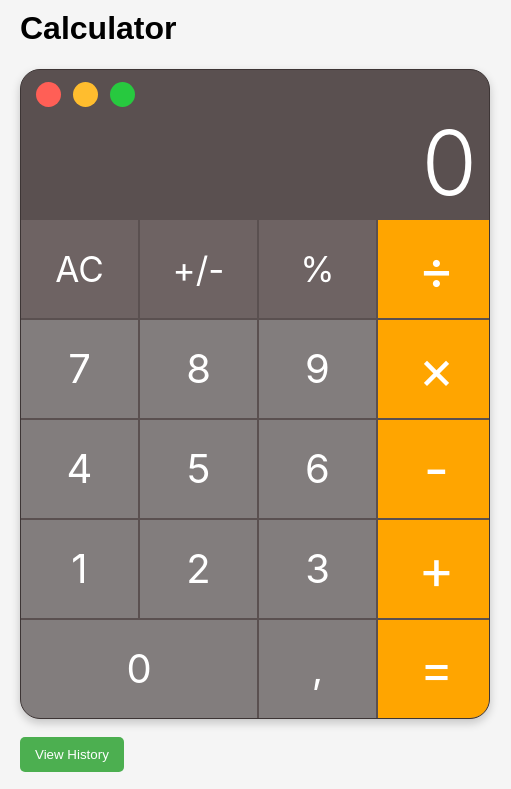
Calculator App › Special Operations › Percentage › should convert multi-digit number to percentage
Click the button "5" at (198, 469), box 140,420 -> 257,518
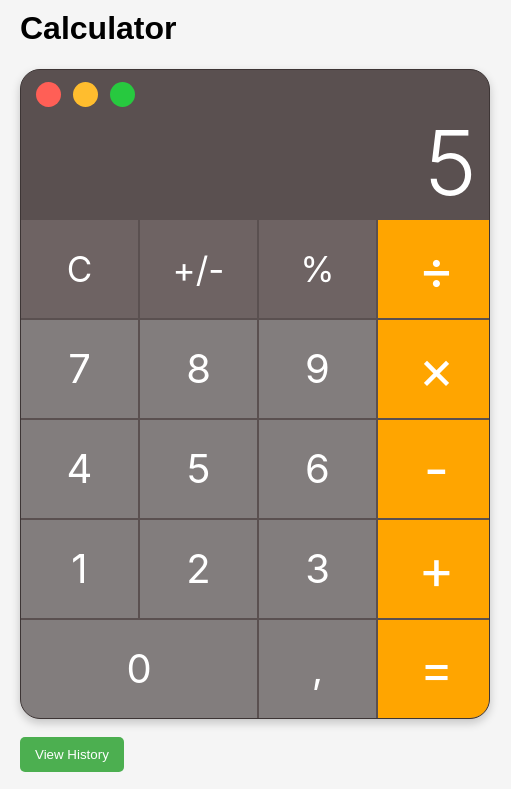
Click the button "0" at (139, 669), box 21,620 -> 257,718
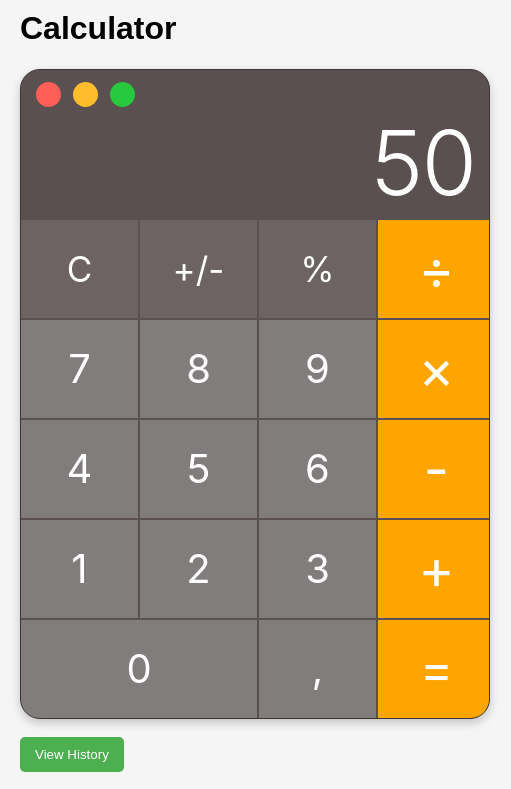
Click the button "0" at (139, 669), box 21,620 -> 257,718
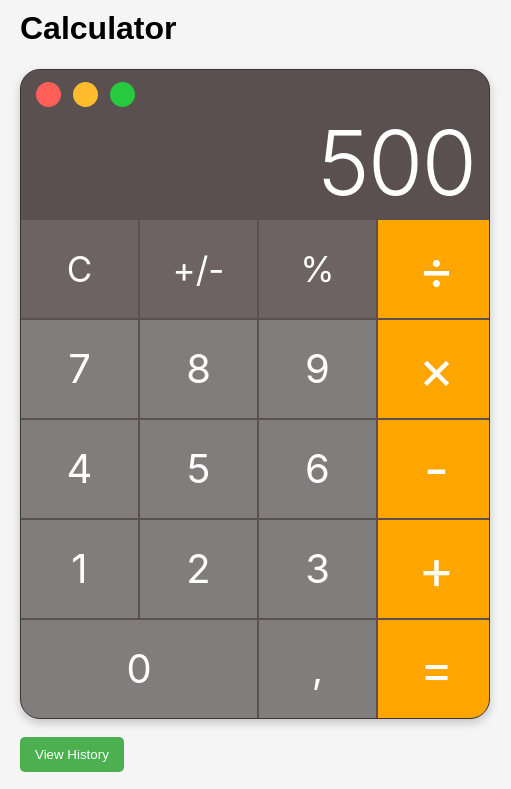
Click the button "1" at (80, 569), box 21,520 -> 138,618
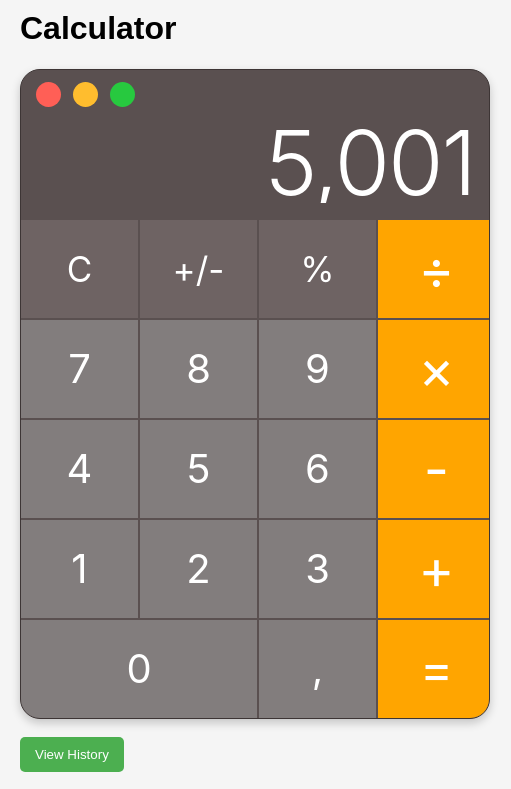
Click the button "%" at (318, 269), box 259,220 -> 376,318
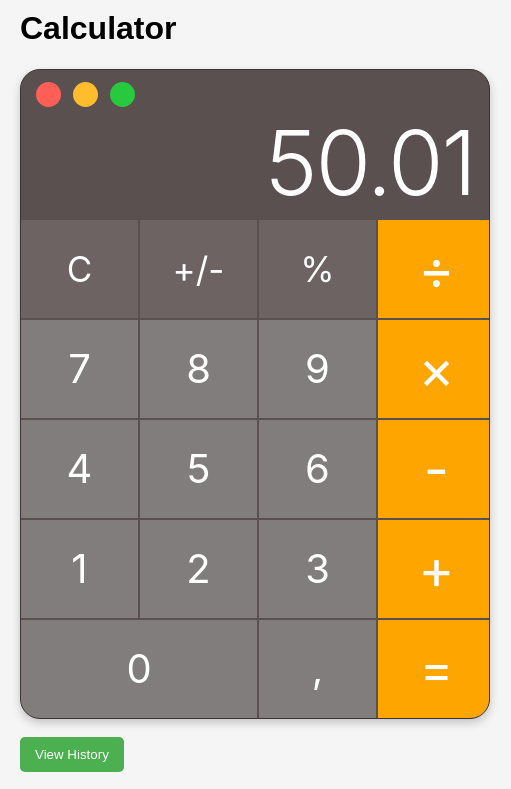
Expected: the field holds "50.01", 21,109 -> 490,203
